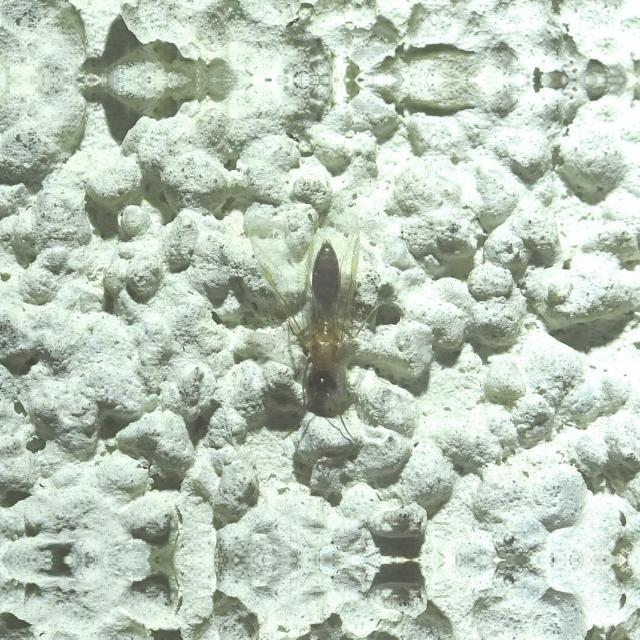Camponotus: (263, 237, 379, 438)
